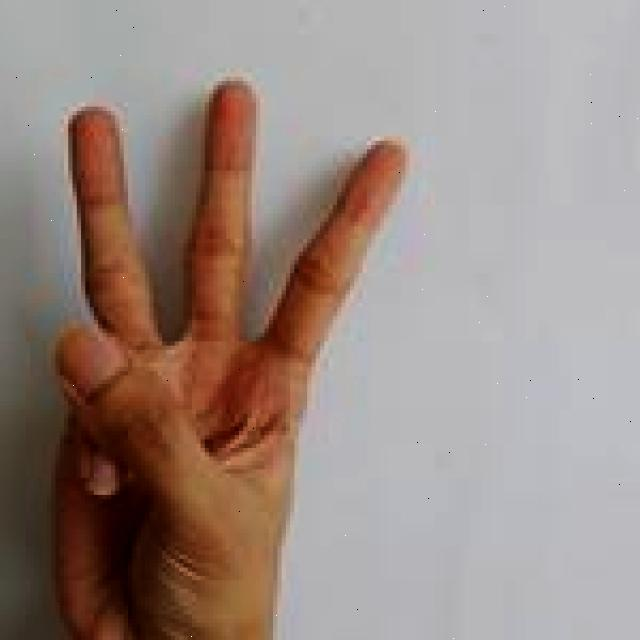W: (36, 68, 401, 640)
